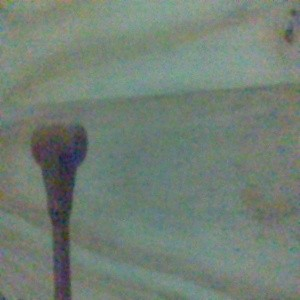palu: (28, 121, 88, 300)
